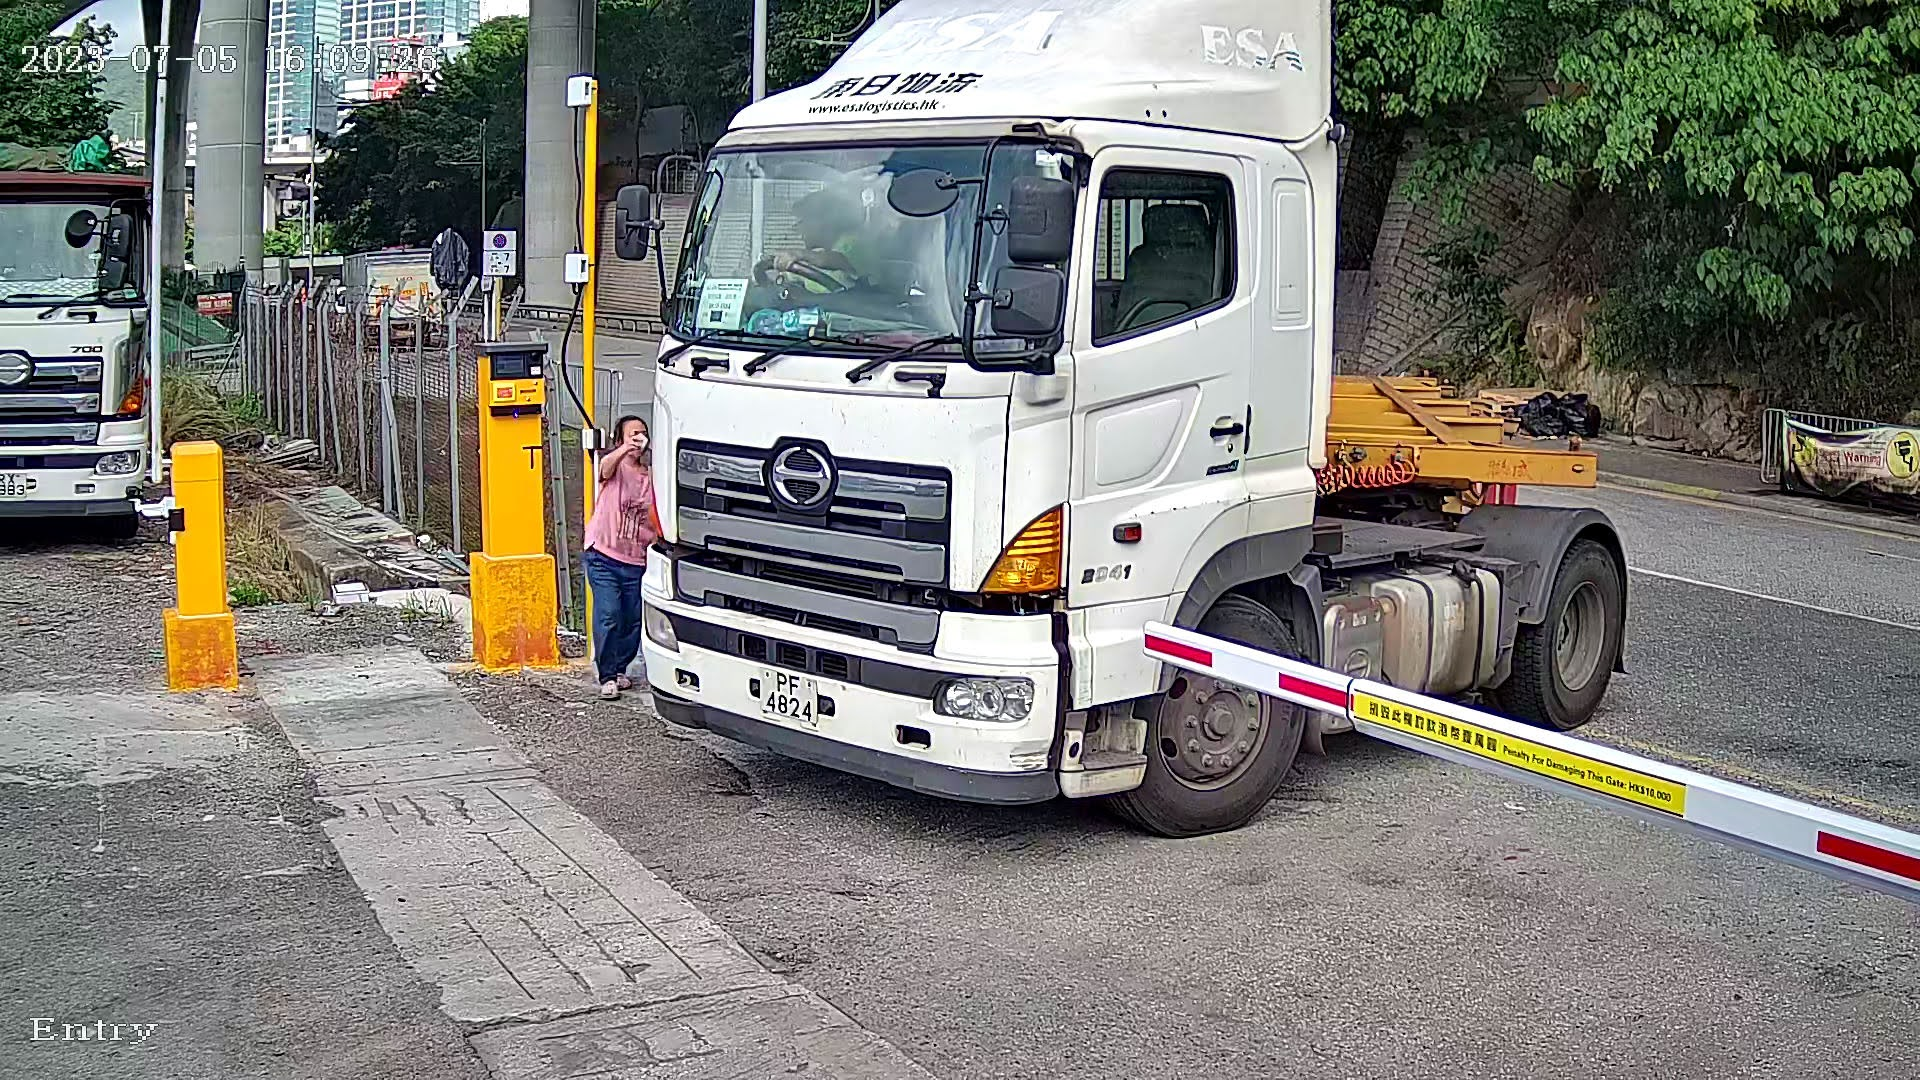truck: (584, 1, 1679, 843)
